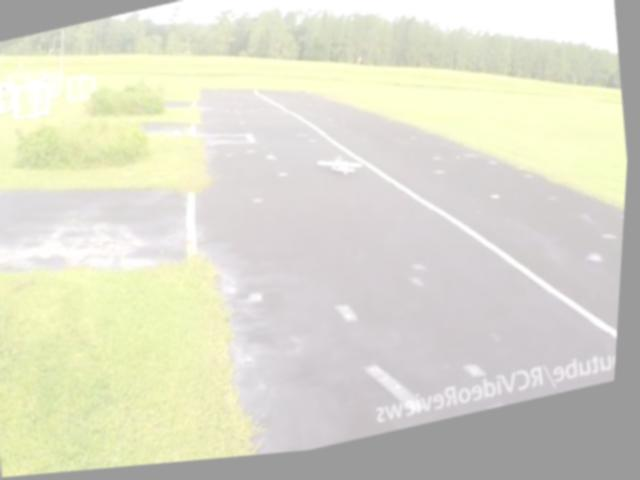uav: (314, 150, 371, 192)
